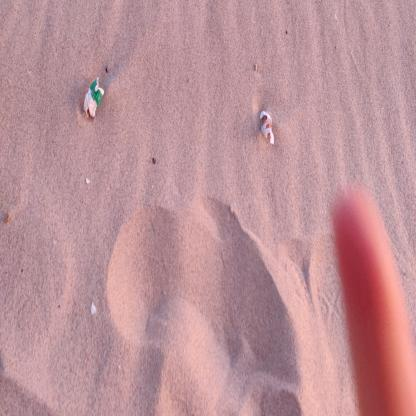Unlabeled litter: (83, 78, 104, 119), (260, 110, 274, 145)
